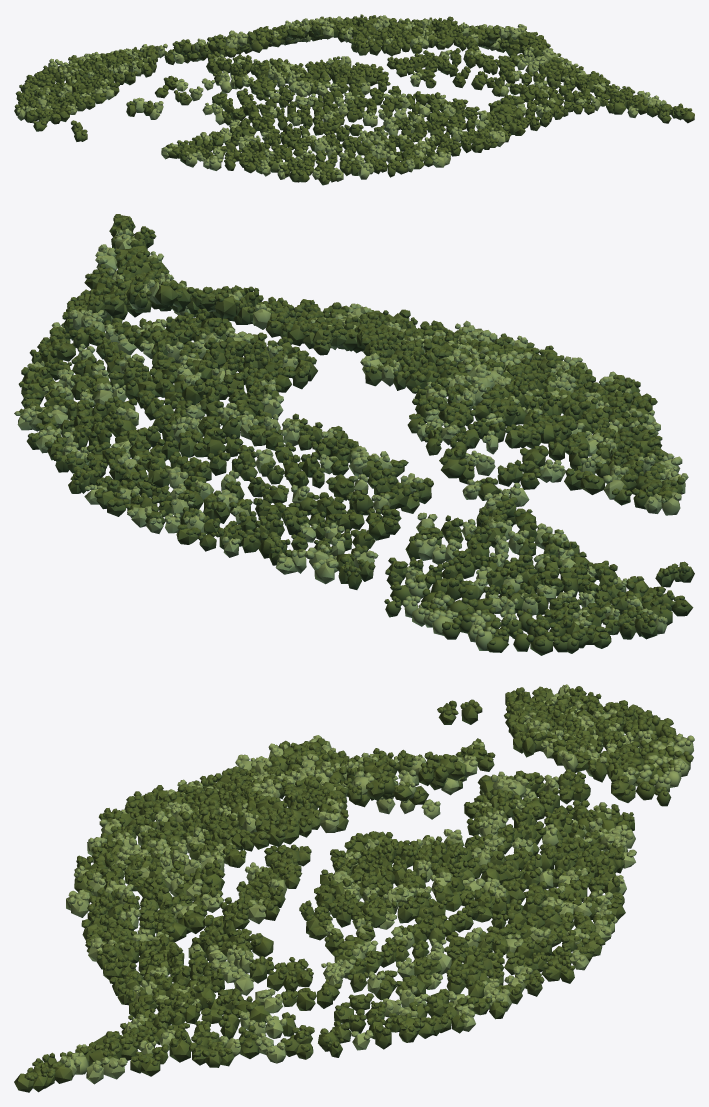
File: ART_HillWood.lod.glb
3 views of the same model, one above another, from view 1: azimuth 30°, elevation 25°; view 2: azimuth 150°, elevation 25°; view 3: azimuth 270°, elevation 25° (orthographic). The views are drawn at different scales.
Parts seen in each view (by area): view 1: ART_HillWood; view 2: ART_HillWood; view 3: ART_HillWood.
Boxes of the visible parts, x1,y1,x2,y2 form: ART_HillWood: (14, 14, 694, 185); ART_HillWood: (14, 214, 694, 655); ART_HillWood: (14, 684, 694, 1092).
Bounding box in the file's own units: 581 × 62.04 × 423.
